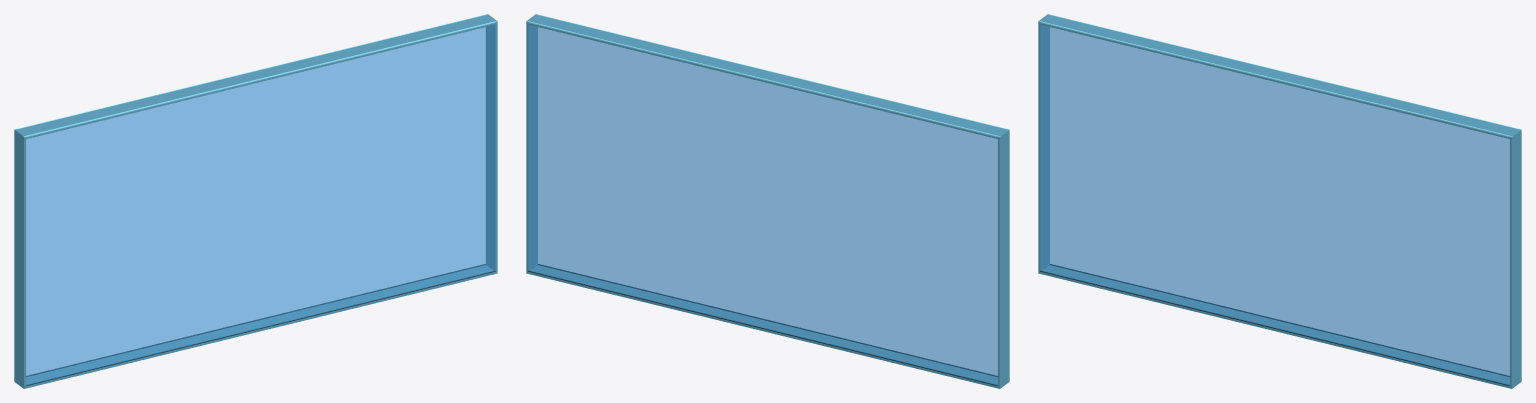
File: SM_VR_Wall_RackToCorridorB.fbx
3 views of the same model, side by side, from view 1: azimuth 30°, elevation 25°; view 2: azimuth 150°, elevation 25°; view 3: azimuth 330°, elevation 25° (orthographic).
Parts seen in each view (by area): view 1: SM_VR_Wall_RackToCorridorB; view 2: SM_VR_Wall_RackToCorridorB; view 3: SM_VR_Wall_RackToCorridorB.
Boxes of the visible parts, x1,y1,x2,y2 form: SM_VR_Wall_RackToCorridorB: (14, 14, 497, 388); SM_VR_Wall_RackToCorridorB: (526, 14, 1009, 388); SM_VR_Wall_RackToCorridorB: (1038, 14, 1521, 388).
Size of the model in its own units: 550 by 20 by 280.
